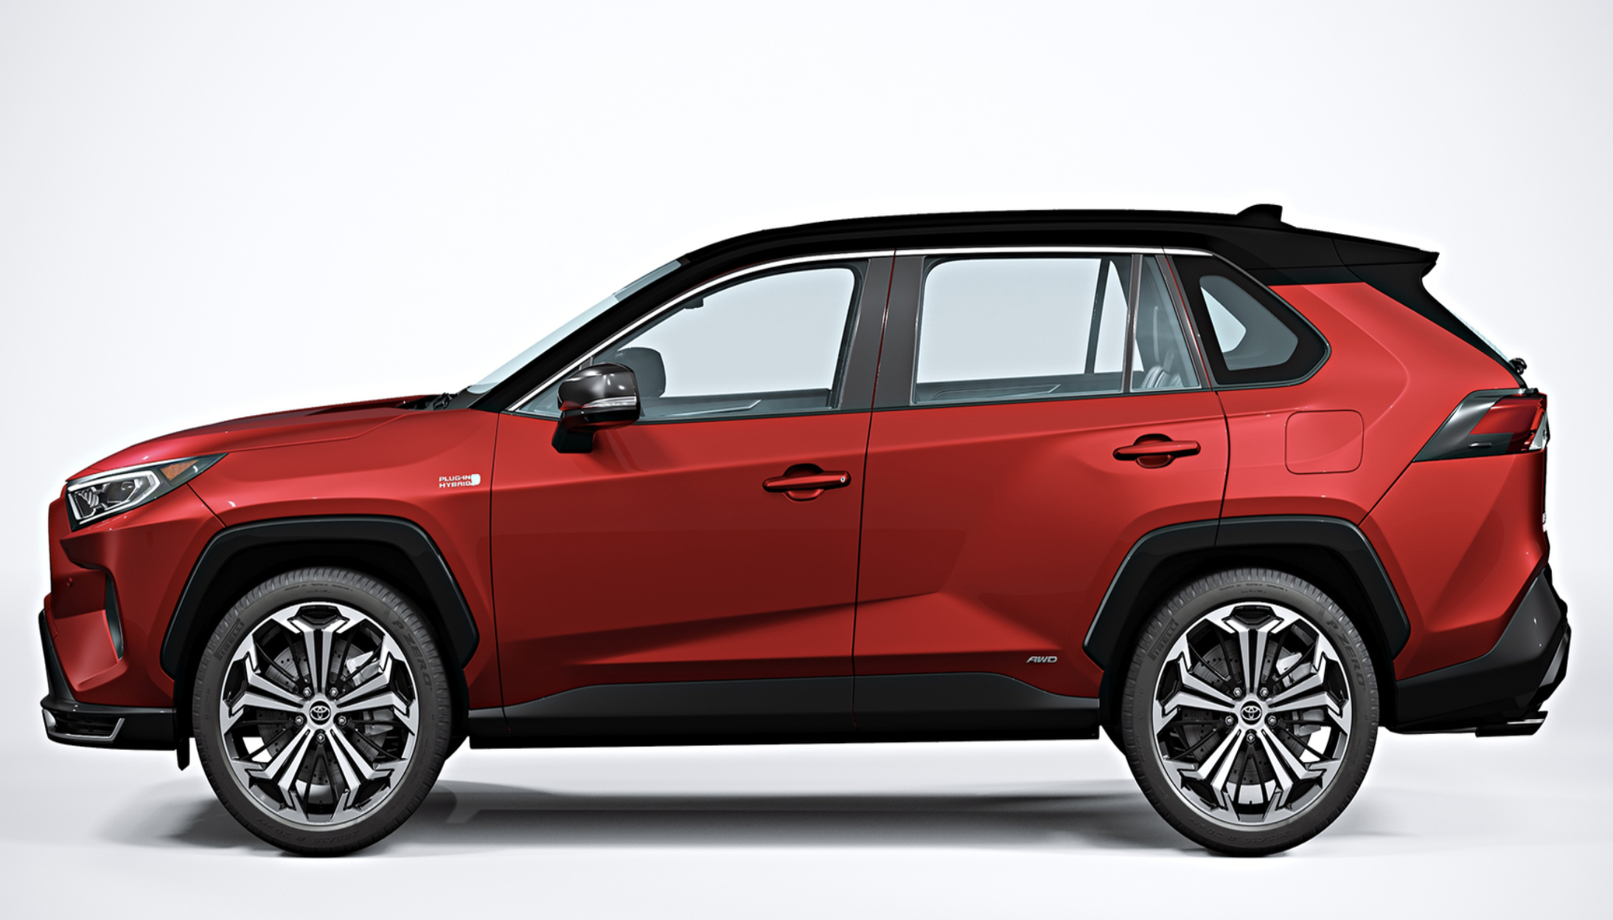hatch: (1280, 407, 1369, 480)
